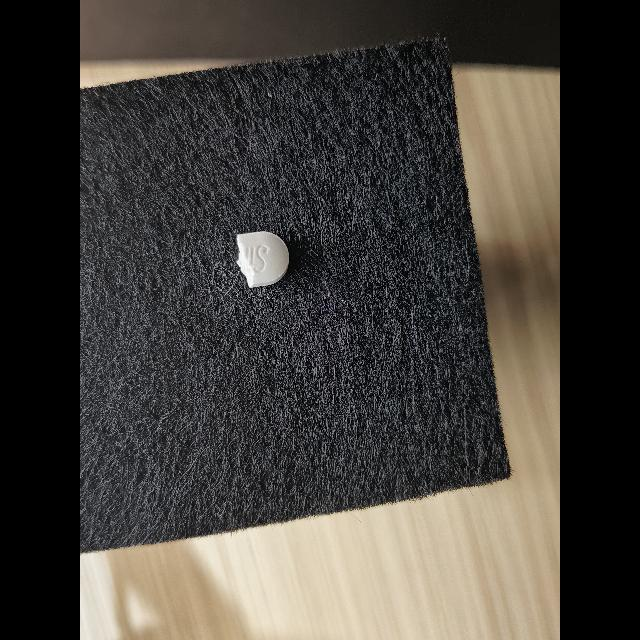Chipped Pill: (236, 231, 289, 288)
